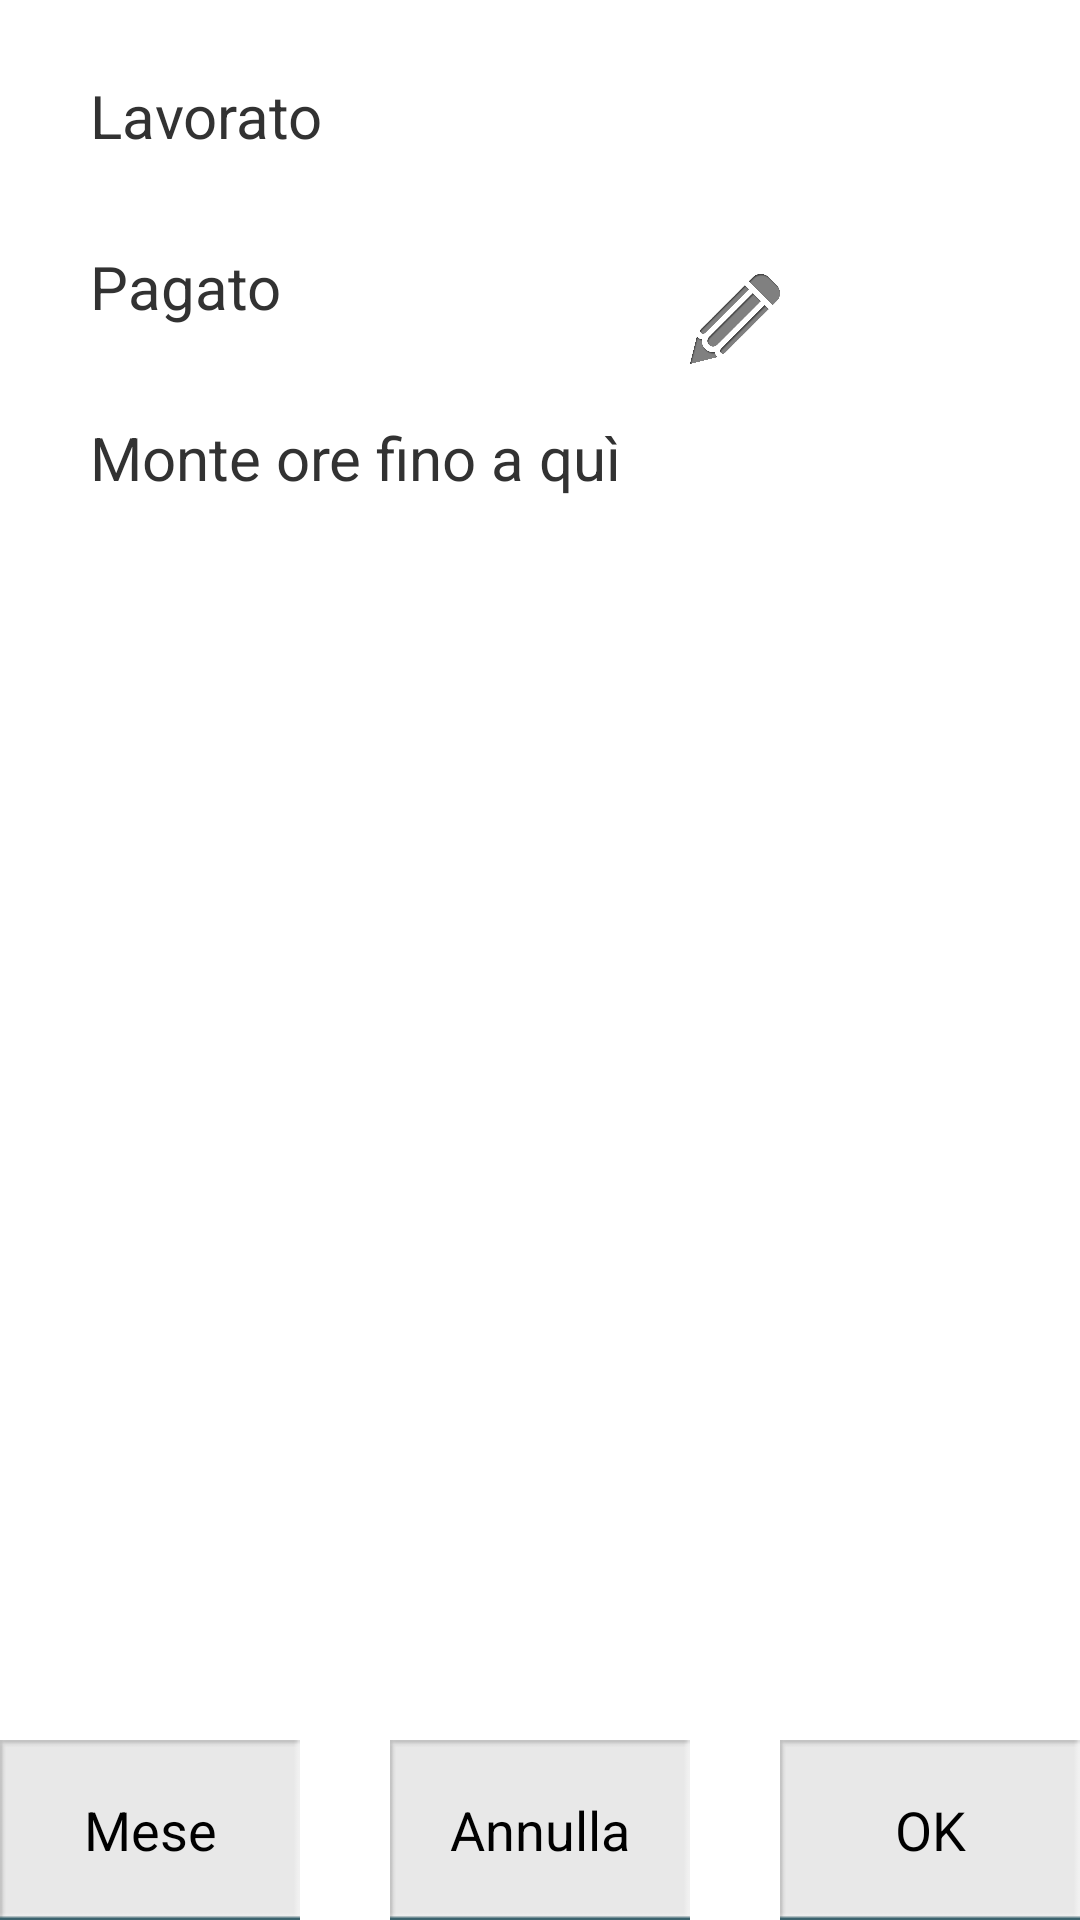

Icons on this 1080w x 1920h Android screen, each with its box as (x1, y1, x2, y2):
matita: (690, 274, 780, 364)
